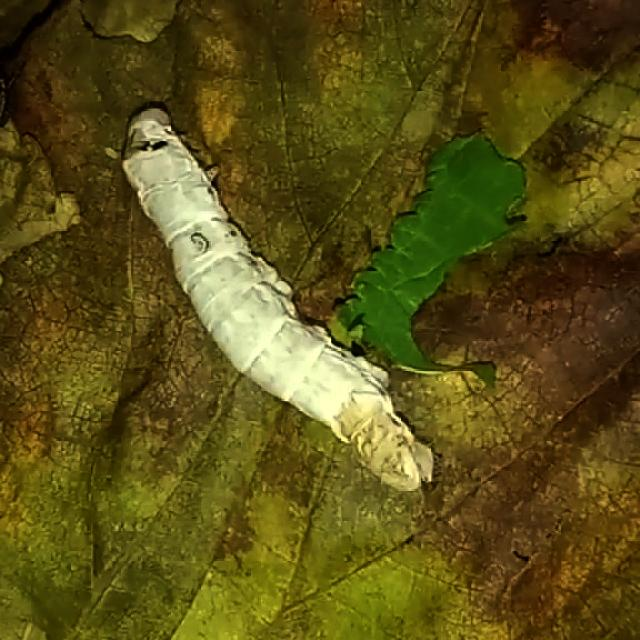Grasserie: (106, 89, 445, 518)
